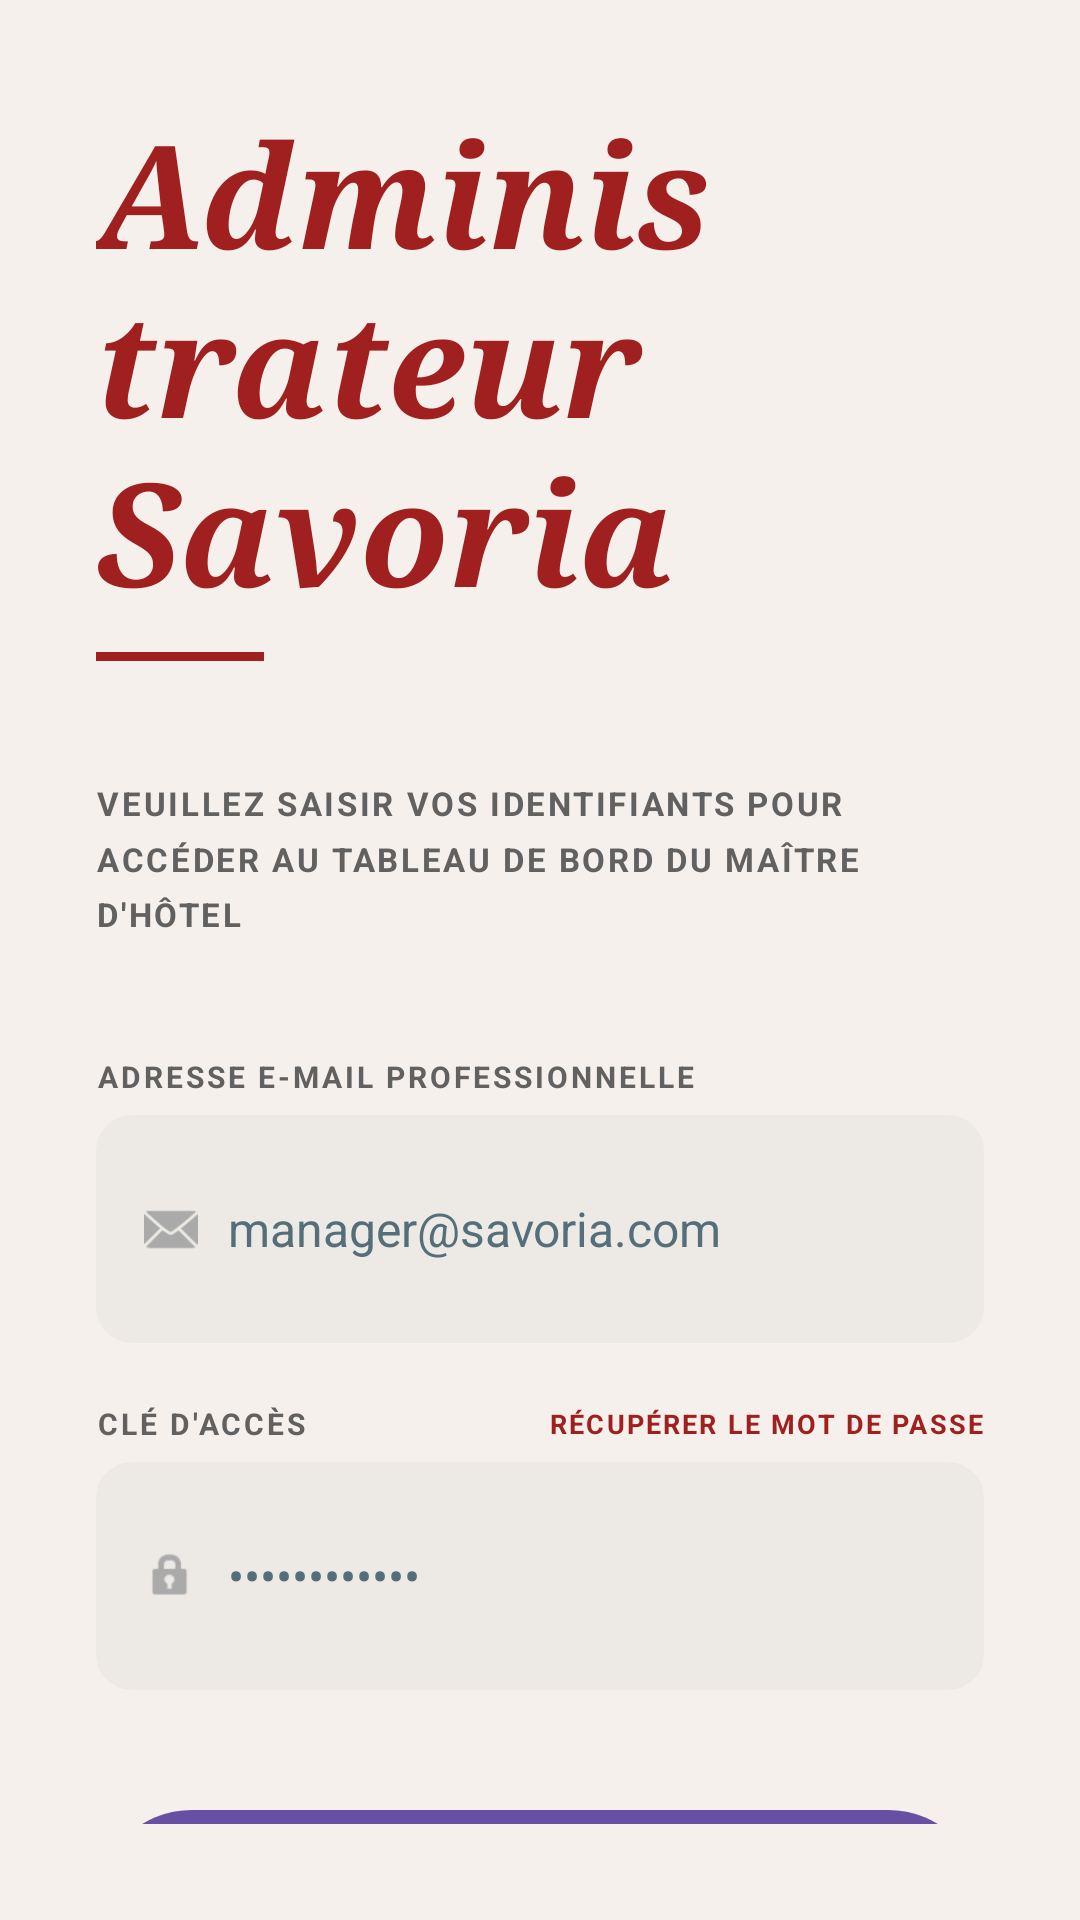

Locate icon controls on the screen. Image size 1080*1920, boxes as (x1, y1, x2, y2).
lock idle: (152, 1554, 187, 1595)
